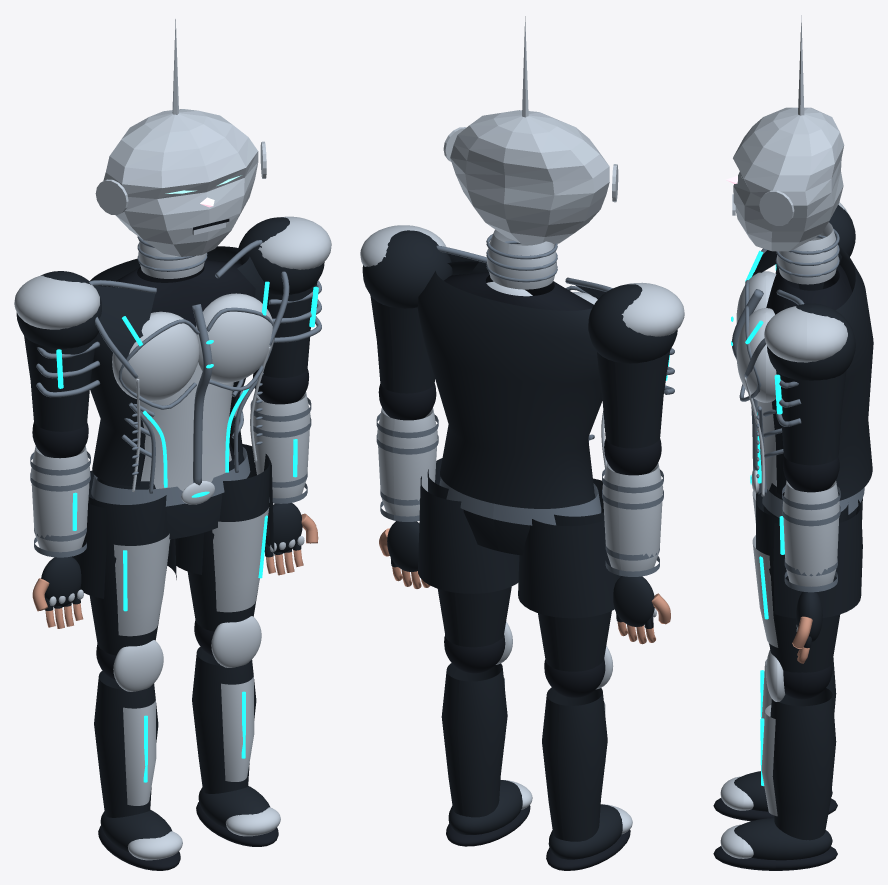
The model's file is fembot.glb.
The picture shows the model from 3 angles, left to right: view 1: azimuth 30°, elevation 25°; view 2: azimuth 150°, elevation 25°; view 3: azimuth 270°, elevation 25°; orthographic projection. The views are drawn at different scales.
Visible parts, largest first — view 1: head_chrome, torso_chrome, torso_leather, hipL_leather, torso_edge, shL_leather, hipR_leather, shR_leather, kneeL_chrome, kneeR_chrome, kneeL_leather, kneeR_leather (+27 smaller); view 2: torso_leather, head_chrome, hipL_leather, hipR_leather, shL_leather, shR_leather, kneeR_leather, kneeL_leather, faL_chrome, faR_chrome, neck_chrome, torso_rubber (+21 smaller); view 3: head_chrome, kneeR_leather, hipR_leather, shR_leather, torso_leather, faR_chrome, torso_chrome, shR_chrome, footR_leather, torso_edge, neck_chrome, torso_rubber (+17 smaller).
Boxes of the visible parts, x1=… form: head_chrome: x1=95, y1=19, x2=266, y2=256; torso_chrome: x1=112, y1=293, x2=273, y2=491; torso_leather: x1=90, y1=246, x2=264, y2=486; hipL_leather: x1=72, y1=470, x2=176, y2=655; torso_edge: x1=89, y1=240, x2=289, y2=493; shL_leather: x1=16, y1=271, x2=101, y2=431; hipR_leather: x1=175, y1=444, x2=274, y2=631; shR_leather: x1=237, y1=217, x2=324, y2=377; kneeL_chrome: x1=113, y1=640, x2=163, y2=805; kneeR_chrome: x1=211, y1=616, x2=261, y2=781; kneeL_leather: x1=94, y1=670, x2=158, y2=817; kneeR_leather: x1=192, y1=647, x2=256, y2=793; torso_leather: x1=417, y1=253, x2=605, y2=508; head_chrome: x1=443, y1=16, x2=618, y2=244; hipL_leather: x1=518, y1=478, x2=620, y2=671; hipR_leather: x1=418, y1=458, x2=519, y2=647; shL_leather: x1=588, y1=284, x2=677, y2=448; shR_leather: x1=362, y1=230, x2=452, y2=393; kneeR_leather: x1=441, y1=663, x2=507, y2=817; kneeL_leather: x1=542, y1=687, x2=607, y2=841; faL_chrome: x1=602, y1=462, x2=662, y2=571; faR_chrome: x1=377, y1=407, x2=437, y2=516; neck_chrome: x1=487, y1=229, x2=556, y2=289; torso_rubber: x1=444, y1=272, x2=593, y2=310; head_chrome: x1=733, y1=15, x2=844, y2=251; kneeR_leather: x1=770, y1=688, x2=836, y2=840; hipR_leather: x1=756, y1=492, x2=862, y2=672; shR_leather: x1=767, y1=303, x2=855, y2=465; torso_leather: x1=752, y1=246, x2=873, y2=500; faR_chrome: x1=783, y1=480, x2=839, y2=586; torso_chrome: x1=736, y1=271, x2=776, y2=496; shR_chrome: x1=764, y1=306, x2=847, y2=362; footR_leather: x1=734, y1=818, x2=832, y2=860; torso_edge: x1=731, y1=248, x2=804, y2=494; neck_chrome: x1=777, y1=222, x2=838, y2=284; torso_rubber: x1=766, y1=264, x2=852, y2=314.
Size of the model in its own units: 2 by 5.12 by 0.9.
